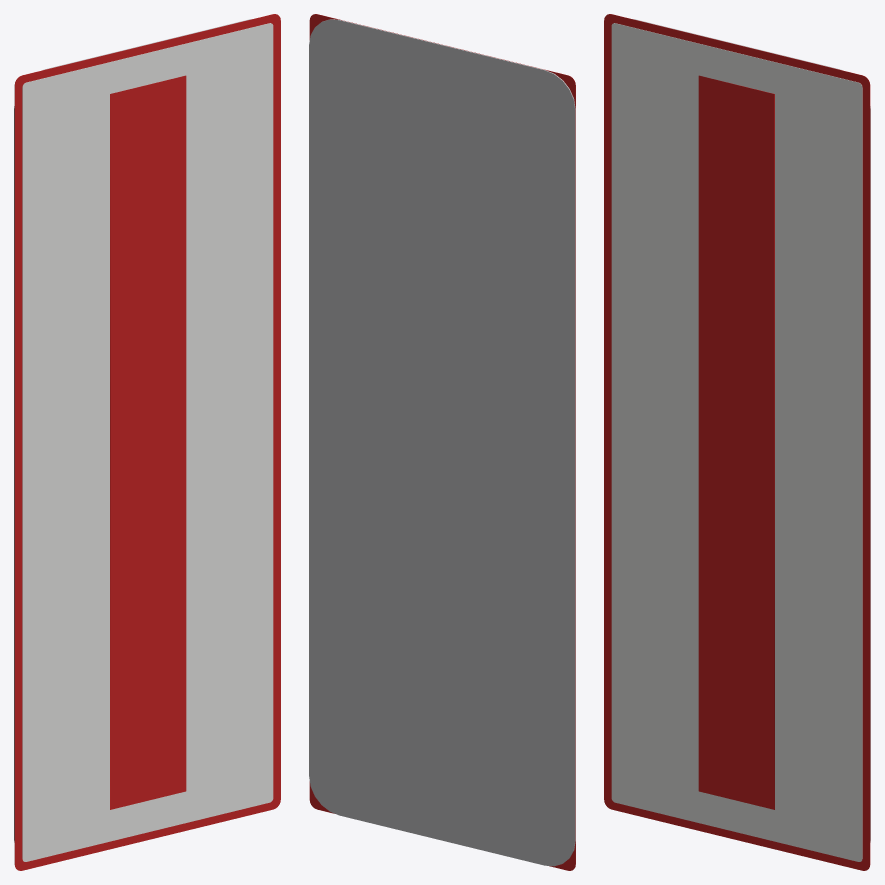
3 renders of one model, left to right at view 1: azimuth 30°, elevation 25°; view 2: azimuth 150°, elevation 25°; view 3: azimuth 330°, elevation 25°, orthographic.
Visible parts, largest first — view 1: G2_fond01, G2_b02, G2_cadre00, G2_dos; view 2: G2_dos, G2_cadre00; view 3: G2_fond01, G2_b02, G2_cadre00, G2_dos.
Boxes of the visible parts, x1,y1,x2,y2 form: G2_fond01: (22,23,273,861); G2_b02: (110,75,186,809); G2_cadre00: (14,14,280,870); G2_dos: (14,19,252,842); G2_dos: (309,19,575,866); G2_cadre00: (309,14,575,870); G2_fond01: (611,23,862,861); G2_b02: (698,75,774,809); G2_cadre00: (604,14,870,870); G2_dos: (632,19,870,842).
Bounding box in the file's own units: 0.35 × 1 × 0.0025.
